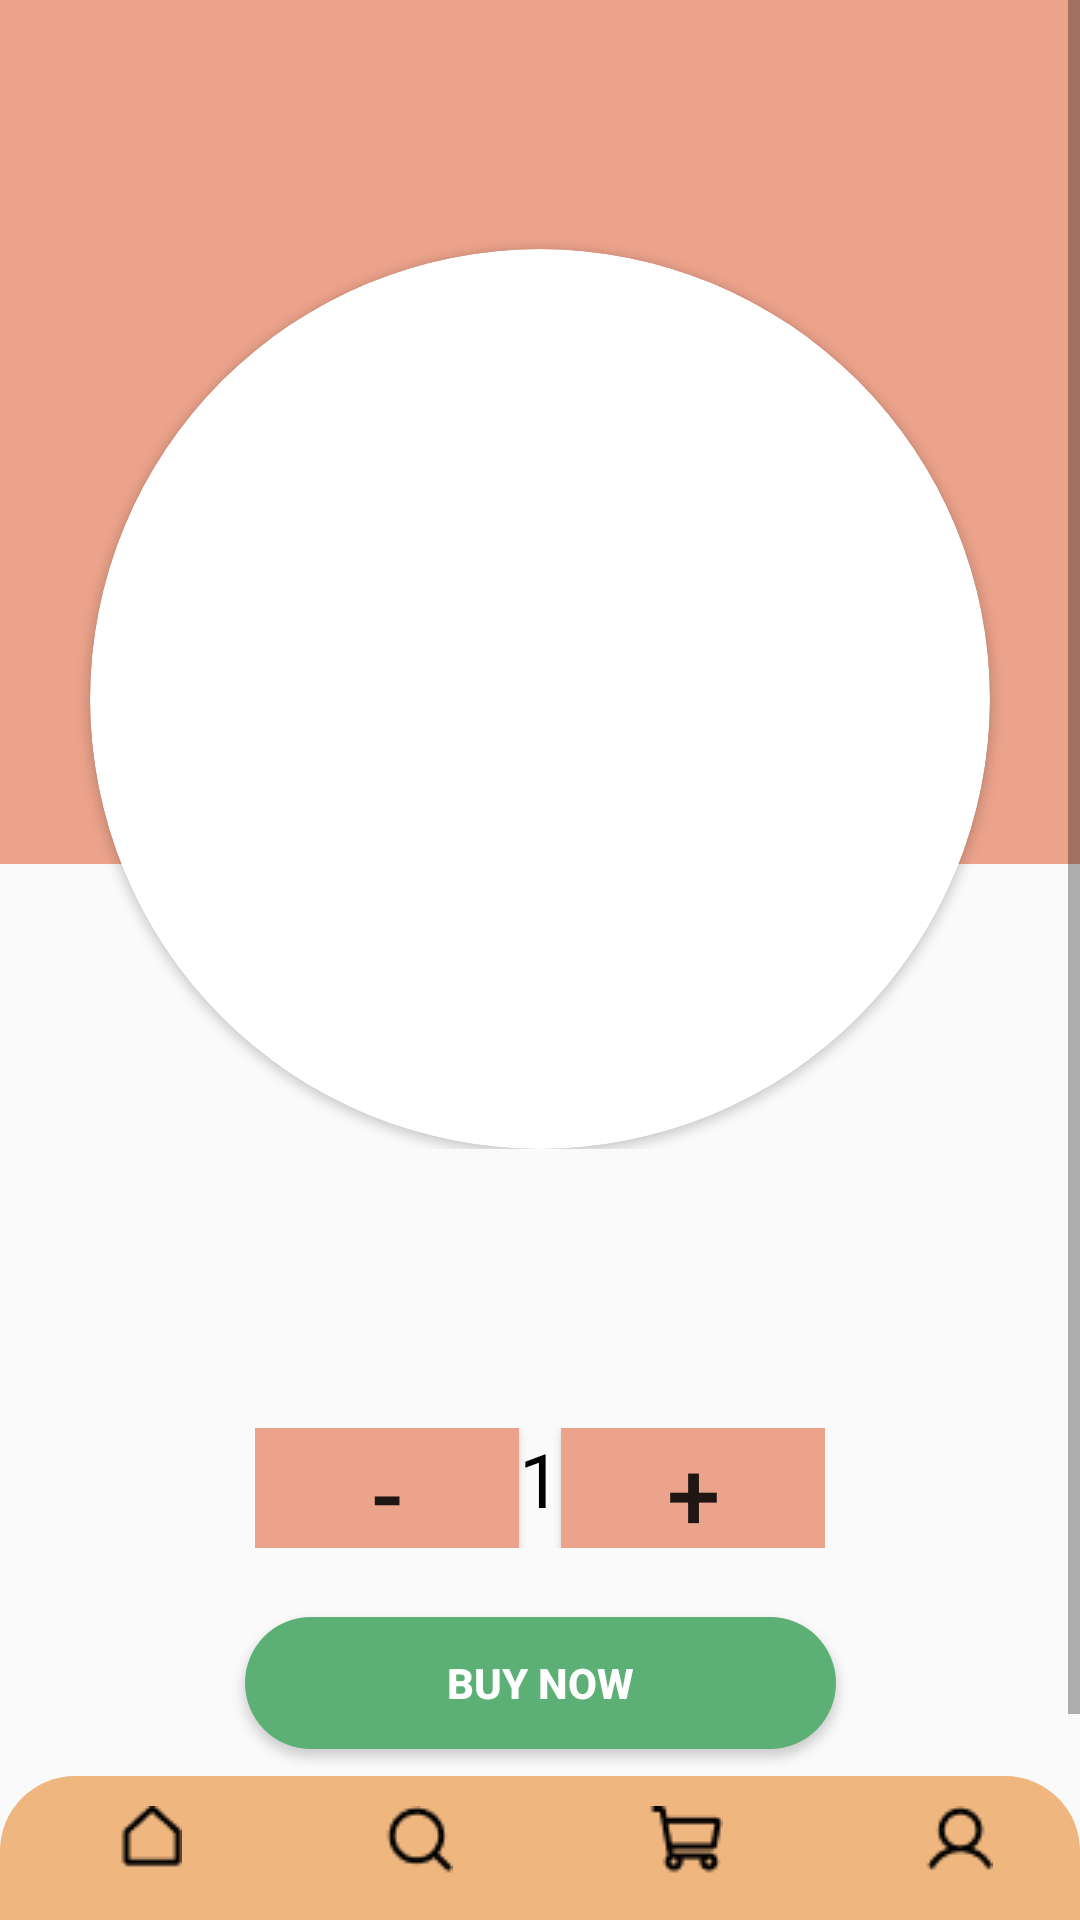

Where to tap for icons on this 1080px x 1920px app screen, as [x,y]:
home: [151,1836]
profile: [959,1838]
search: [420,1839]
